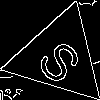S: (34, 31, 92, 88)
